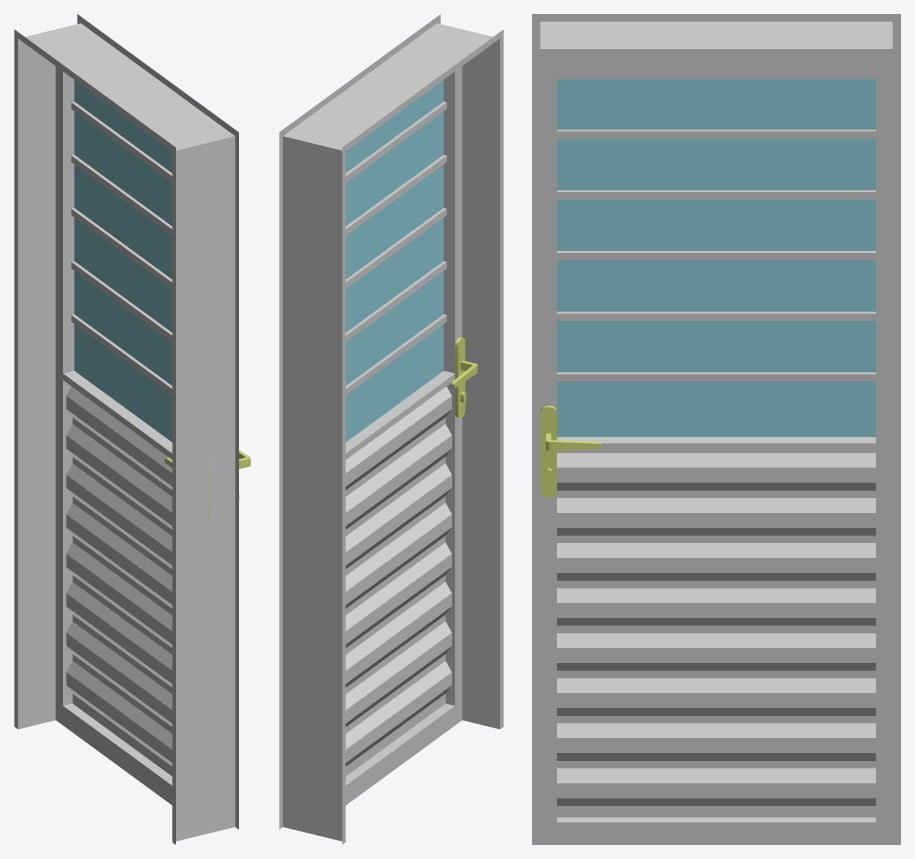
File: MESH_ENV_[Porta_Metal_2.1m x 85cm]_02.fbx
3 renders of one model, left to right at view 1: azimuth 30°, elevation 25°; view 2: azimuth 150°, elevation 25°; view 3: azimuth 270°, elevation 25°, orthographic. The views are drawn at different scales.
Visible parts, largest first — view 1: MESH_ENV_[Porta_Metal_2.1m x 85cm]_02_LOD0; view 2: MESH_ENV_[Porta_Metal_2.1m x 85cm]_02_LOD0; view 3: MESH_ENV_[Porta_Metal_2.1m x 85cm]_02_LOD0.
Boxes of the visible parts, box(x1,y1,x2,y2) form: MESH_ENV_[Porta_Metal_2.1m x 85cm]_02_LOD0: box(14, 14, 250, 844); MESH_ENV_[Porta_Metal_2.1m x 85cm]_02_LOD0: box(279, 14, 503, 844); MESH_ENV_[Porta_Metal_2.1m x 85cm]_02_LOD0: box(532, 14, 900, 844).
Size of what is drawn, in the model's own units: 26 by 212 by 89.
